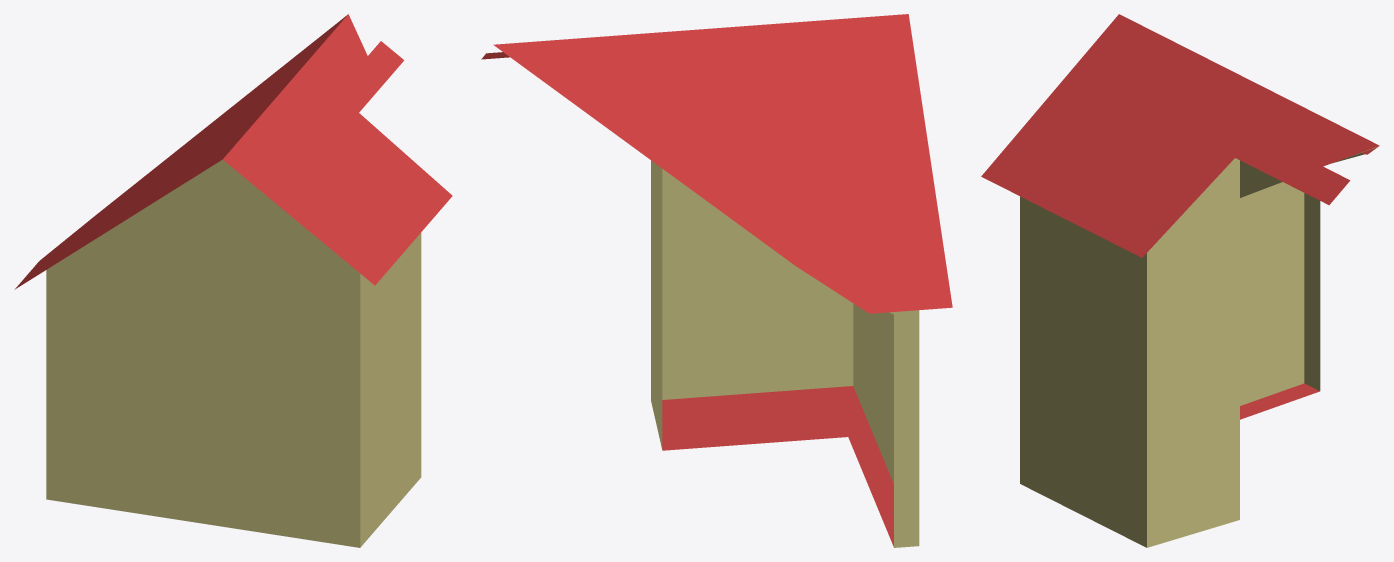
3 renders of one model, left to right at view 1: azimuth 30°, elevation 25°; view 2: azimuth 150°, elevation 25°; view 3: azimuth 270°, elevation 25°, orthographic. The views are drawn at different scales.
Size of the model in its own units: 13.87 by 10.8 by 12.54.
